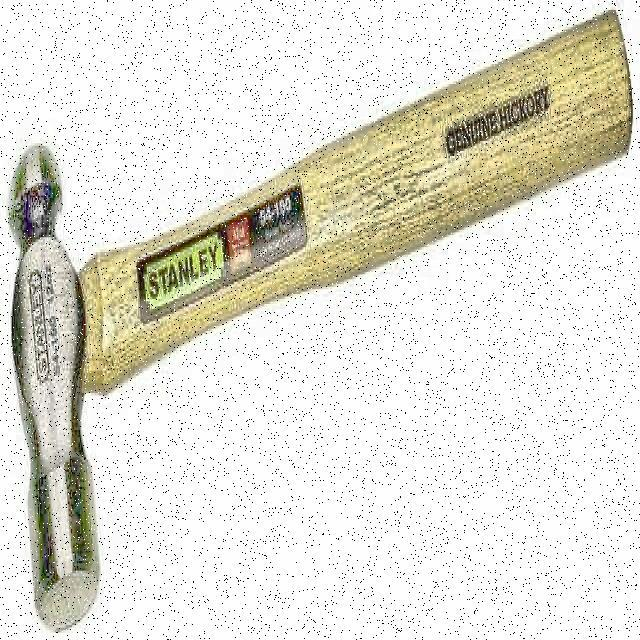hammer: (9, 12, 634, 634)
